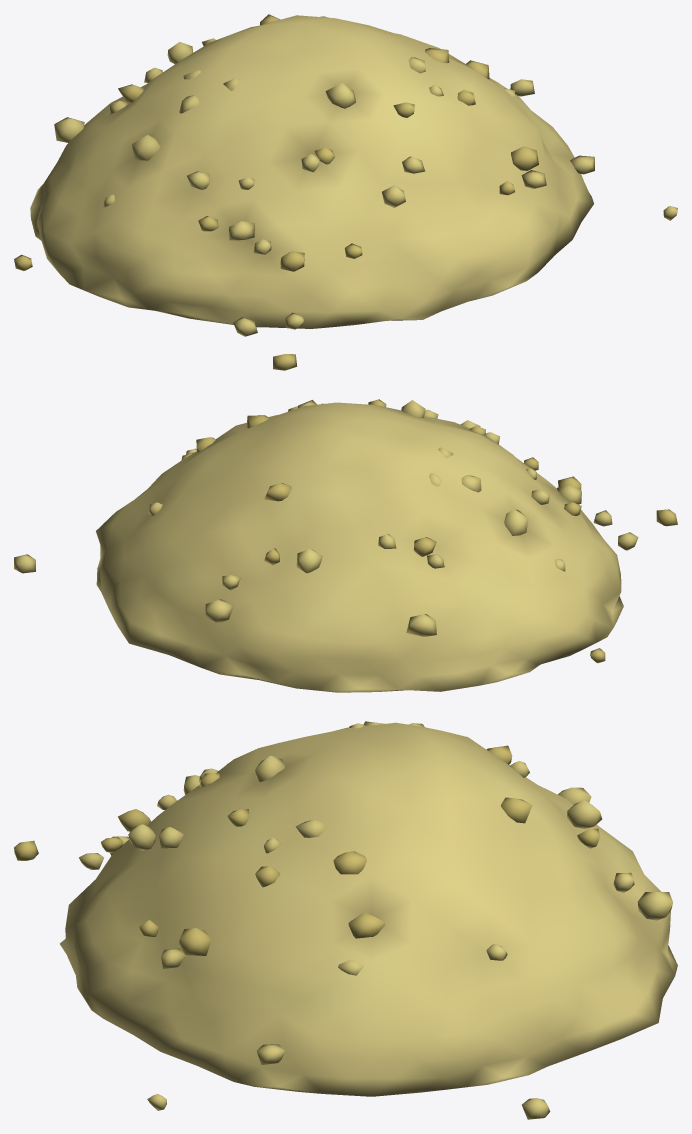
File: sulphur.glb
The picture shows the model from 3 angles, top to bottom: view 1: azimuth 30°, elevation 25°; view 2: azimuth 150°, elevation 25°; view 3: azimuth 270°, elevation 25°; orthographic projection. The views are drawn at different scales.
Parts seen in each view (by area): view 1: Body_lod0; view 2: Body_lod0; view 3: Body_lod0.
Part boxes in pixels (left/top/right/bottom): Body_lod0: left=14, top=14, right=677, bottom=370; Body_lod0: left=14, top=399, right=677, bottom=692; Body_lod0: left=14, top=721, right=677, bottom=1119.
Size of what is drawn, in the model's own units: 0.2543 by 0.0823 by 0.2213.
